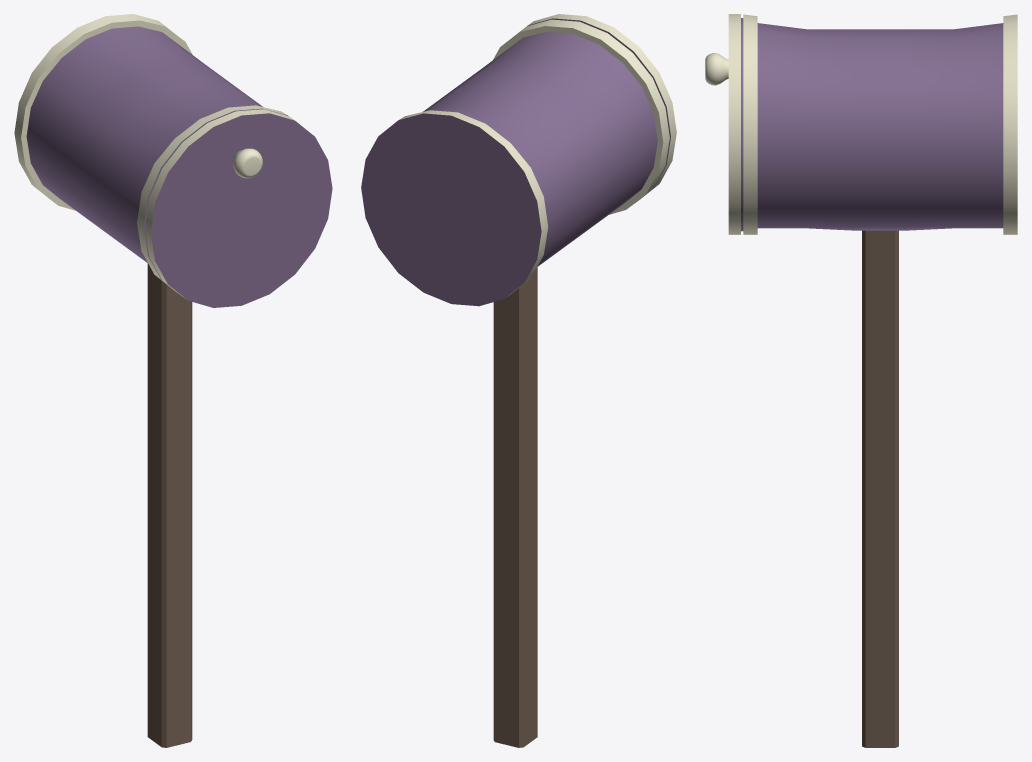
File: Letterbox_high_MDL.fbx
The picture shows the model from 3 angles, left to right: view 1: azimuth 30°, elevation 25°; view 2: azimuth 150°, elevation 25°; view 3: azimuth 270°, elevation 25°; orthographic projection. The views are drawn at different scales.
Visible parts, largest first — view 1: Letterbox_high_GEO; view 2: Letterbox_high_GEO; view 3: Letterbox_high_GEO.
Boxes of the visible parts, <box> form: Letterbox_high_GEO: <box>14,14,332,747</box>; Letterbox_high_GEO: <box>361,14,676,747</box>; Letterbox_high_GEO: <box>705,14,1017,747</box>.
Bounding box in the file's own units: 29.97 × 106 × 42.01.
